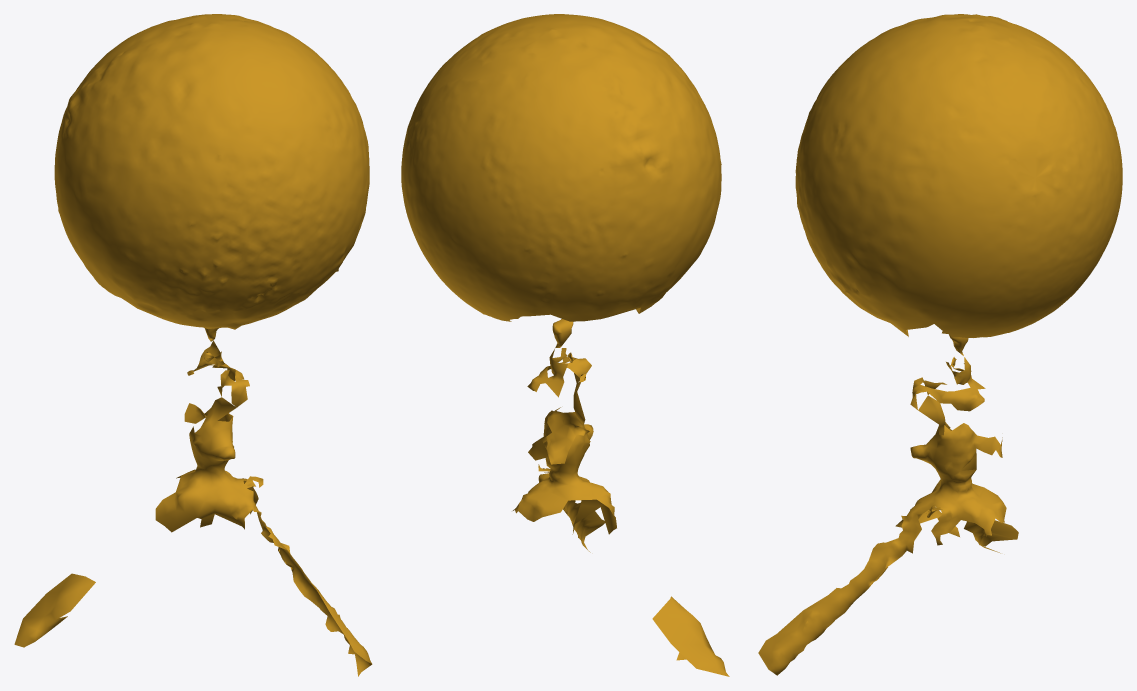
File: Gridtest_2_0_0.000001.obj
The picture shows the model from 3 angles, left to right: view 1: azimuth 30°, elevation 25°; view 2: azimuth 150°, elevation 25°; view 3: azimuth 270°, elevation 25°; orthographic projection. The views are drawn at different scales.
Visible parts, largest first — view 1: ./Gridtest_2_0_0.000001; view 2: ./Gridtest_2_0_0.000001; view 3: ./Gridtest_2_0_0.000001.
Part boxes in pixels (x1,y1,x2,y2): ./Gridtest_2_0_0.000001: (14,14,372,676); ./Gridtest_2_0_0.000001: (401,14,729,676); ./Gridtest_2_0_0.000001: (758,14,1122,675).
Bounding box in the file's own units: 348 × 624 × 333.
